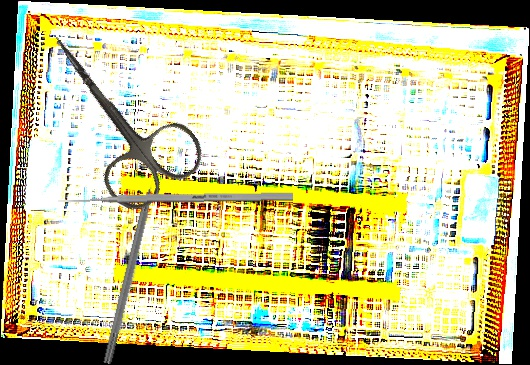Hook Surgical: (102, 165, 163, 365)
Iris Scissors: (16, 5, 212, 221)
Pusher: (57, 191, 294, 206)
